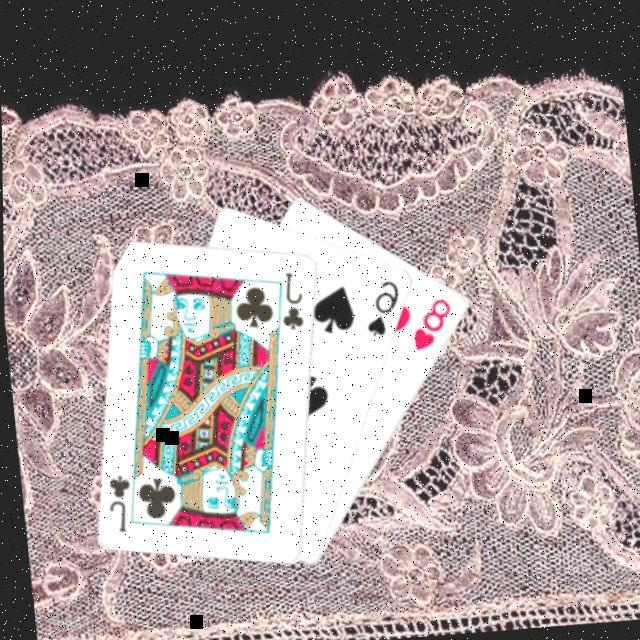6S: (356, 275, 403, 339)
8H: (402, 293, 456, 354)
JC: (99, 471, 135, 535), (273, 267, 307, 333)
